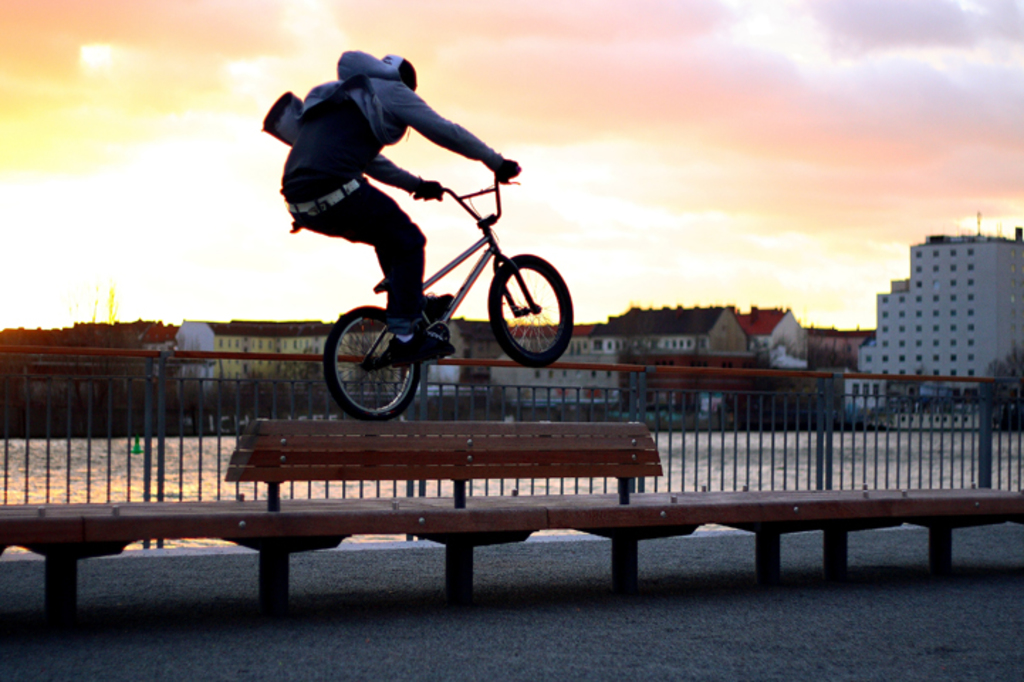bicycle: (286, 152, 582, 420)
